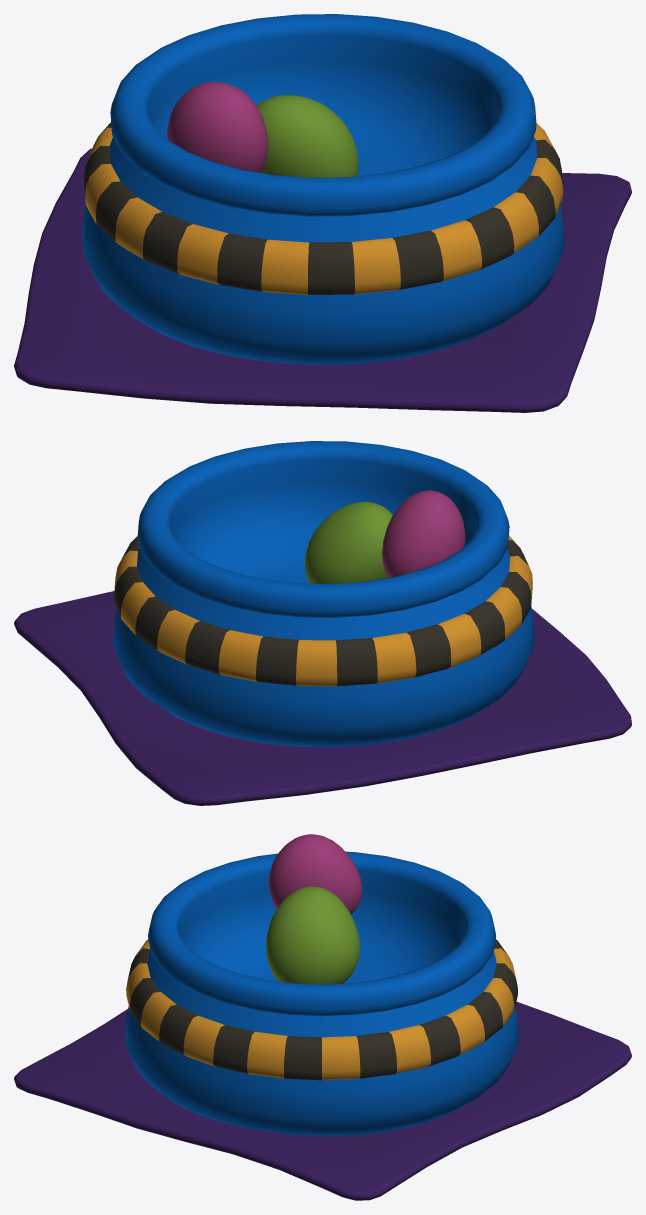
File: pot_4.fbx
The picture shows the model from 3 angles, top to bottom: view 1: azimuth 30°, elevation 25°; view 2: azimuth 150°, elevation 25°; view 3: azimuth 270°, elevation 25°; orthographic projection. The views are drawn at different scales.
Parts seen in each view (by area): view 1: pot_4; view 2: pot_4; view 3: pot_4.
Part boxes in pixels (bbox=[...]): pot_4: bbox=[14, 14, 631, 412]; pot_4: bbox=[14, 441, 631, 805]; pot_4: bbox=[14, 834, 631, 1200].
Size of the model in its own units: 321 by 111 by 323.
